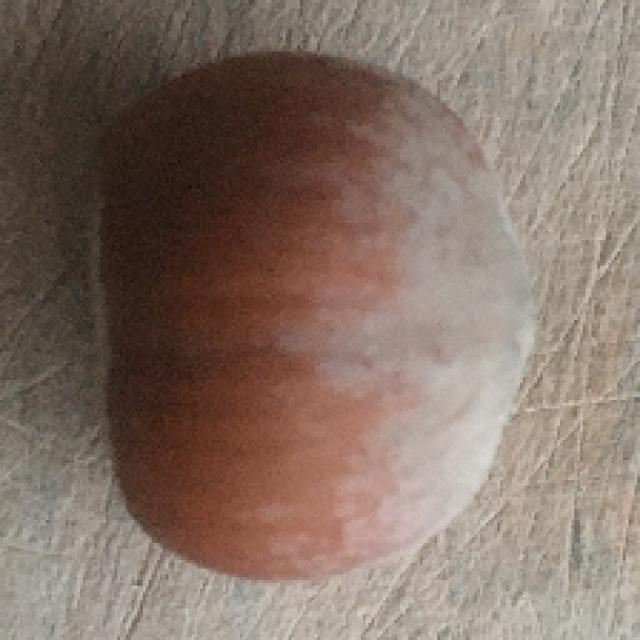qualityHazelnut: (94, 45, 542, 582)
